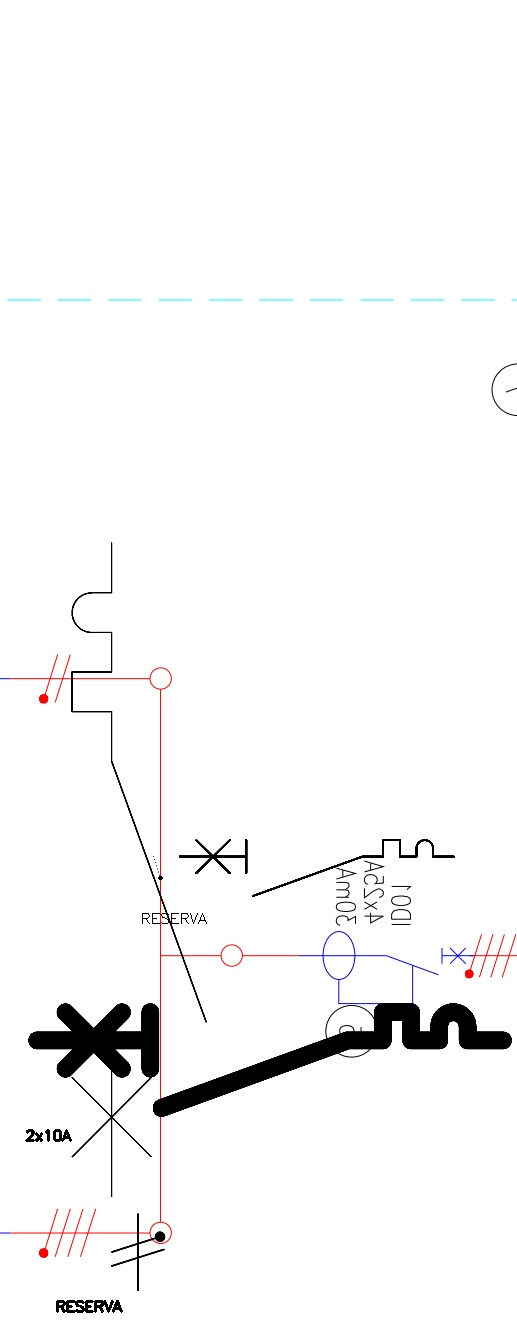interruptor_termomagnetico: (55, 526, 223, 1213), (25, 1000, 515, 1120), (172, 833, 461, 903)
